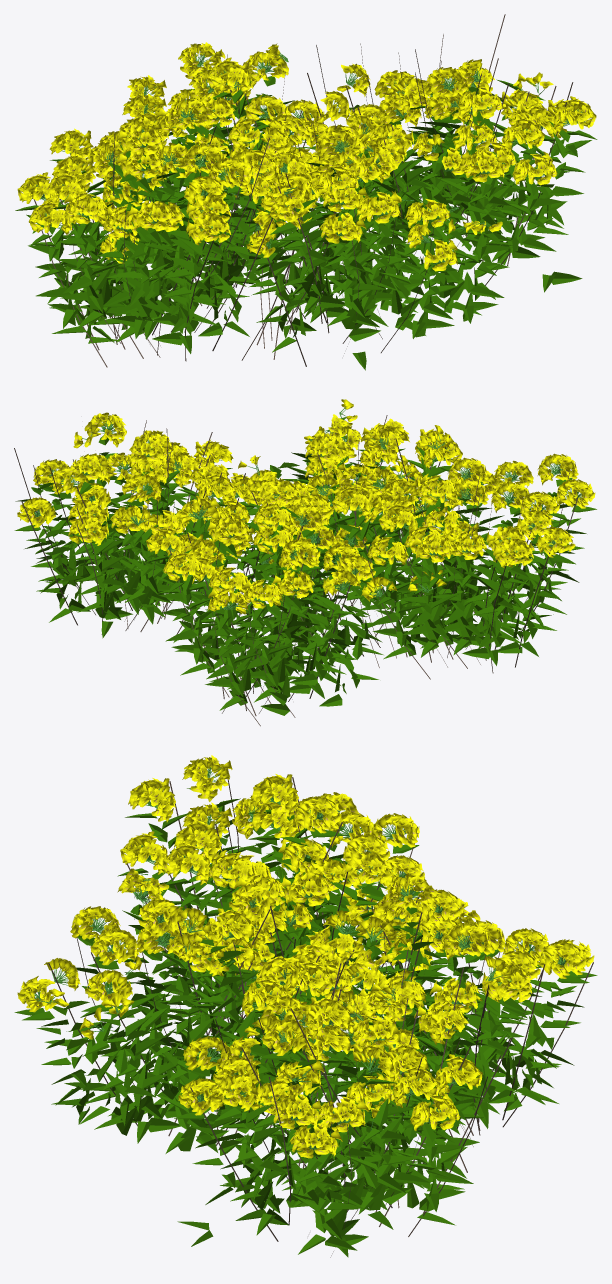
The picture shows the model from 3 angles, top to bottom: view 1: azimuth 30°, elevation 25°; view 2: azimuth 150°, elevation 25°; view 3: azimuth 270°, elevation 25°; orthographic projection. The views are drawn at different scales.
Size of the model in its own units: 0.546 by 0.2382 by 0.4279.
Materials: 5 (1 with a texture image).
